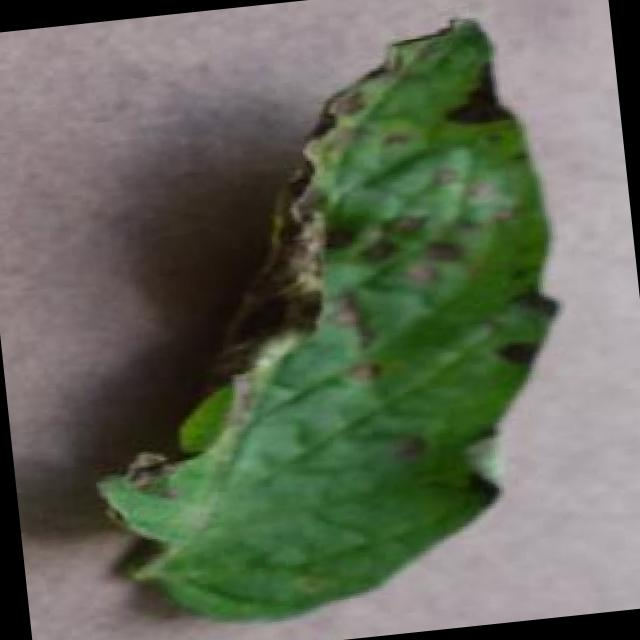Tomato_Early_Blight: (28, 12, 569, 578)
